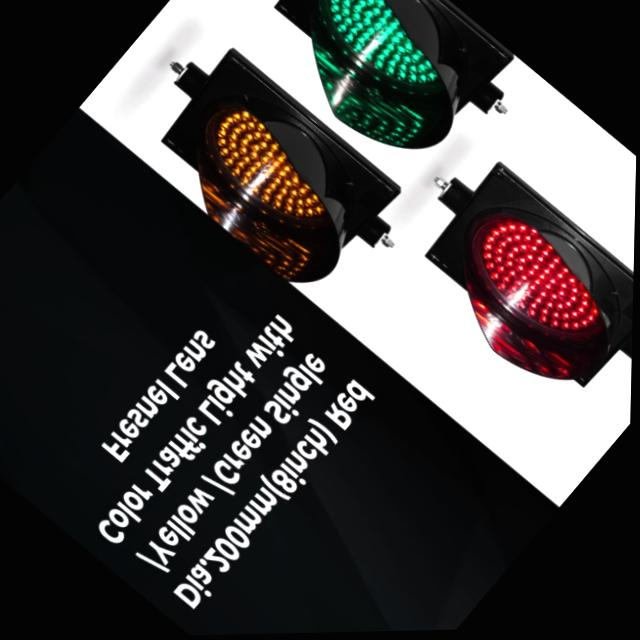Hijau: (299, 0, 466, 114)
Kuning: (190, 95, 356, 250)
Merah: (446, 193, 629, 367)
